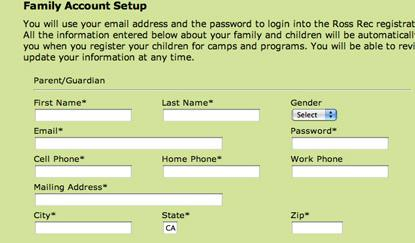field: (34, 191, 223, 207), (33, 136, 223, 150), (33, 107, 133, 123), (289, 135, 388, 151), (35, 219, 132, 235), (34, 163, 134, 178), (162, 107, 260, 122), (290, 163, 387, 178), (162, 164, 261, 178), (291, 220, 343, 235), (292, 108, 336, 121), (161, 220, 179, 234)
field_with_label: (33, 182, 225, 208), (32, 127, 225, 150), (32, 154, 135, 179), (32, 99, 133, 124), (161, 98, 261, 123), (33, 211, 132, 236), (288, 128, 389, 152), (161, 155, 262, 179), (288, 155, 388, 179), (288, 210, 344, 236), (289, 99, 338, 122), (160, 211, 189, 235)
